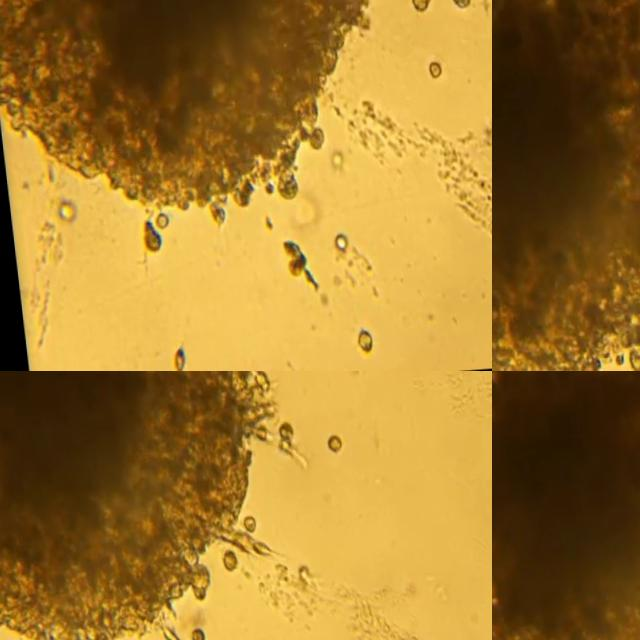cell: (278, 239, 303, 276), (277, 437, 303, 467), (139, 217, 157, 252), (55, 200, 73, 221), (325, 433, 343, 453), (354, 330, 369, 351), (327, 148, 342, 169), (169, 347, 182, 371), (277, 423, 293, 442), (329, 233, 346, 250), (153, 212, 169, 229), (220, 552, 234, 571), (294, 564, 308, 583), (300, 270, 313, 287), (410, 0, 430, 11), (241, 515, 253, 531), (189, 625, 201, 640), (426, 62, 438, 75), (453, 0, 471, 8)
tumor_mass: (492, 371, 640, 640)
